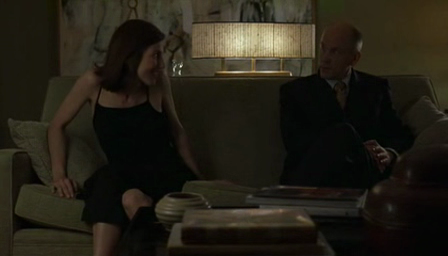face: (317, 32, 349, 81), (142, 43, 166, 84)
mls: (1, 1, 448, 256)
person: (46, 18, 210, 256), (279, 21, 406, 192)
